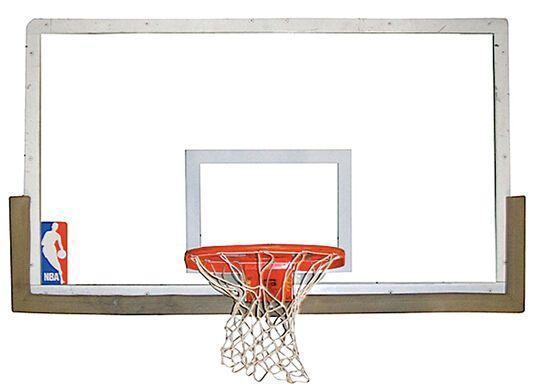rim: (186, 244, 346, 384)
